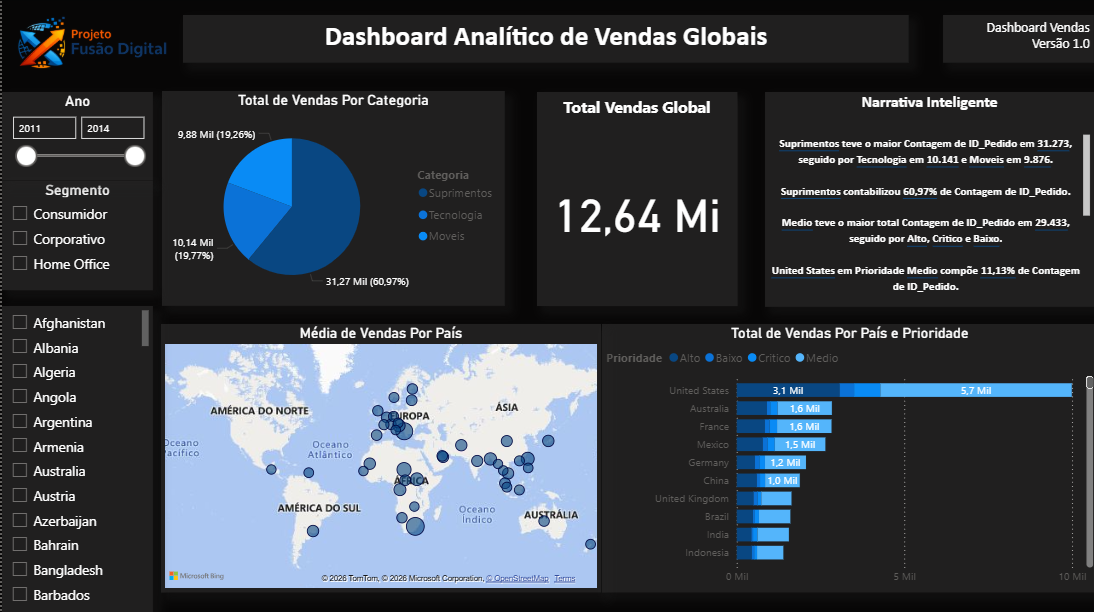

What the dashboard file says about the page in this screenshot:
{"tool":"powerbi","page":{"name":"Lab1","canvas":[1280,720],"ordinal":0},"visuals":[{"type":"card","fields":{"Values":["Sum(dataset.Total_Vendas)"]},"box":[627.4,109.1,234.5,250.9],"z":0},{"type":"pieChart","title":"Total de Vendas Por Categoria","fields":{"Category":["dataset.Categoria"],"Y":["CountNonNull(dataset.ID_Pedido)"]},"box":[187.5,107.7,401.7,252.3],"z":1000},{"type":"barChart","title":"Total de Vendas Por País e Prioridade","fields":{"Category":["dataset.Pais"],"Y":["CountNonNull(dataset.ID_Pedido)"],"Series":["dataset.Prioridade"]},"box":[703.8,380.8,581.1,314.9],"z":2000},{"type":"map","title":"Média de Vendas Por País","fields":{"Category":["dataset.Pais"],"Size":["Avg(dataset.Total_Vendas)"]},"box":[187,381.4,515.9,315.4],"z":3000},{"type":"slicer","fields":{"Values":["dataset.Pais"]},"box":[0,360,177.1,360],"z":4000},{"type":"slicer","title":"Segmento","fields":{"Values":["dataset.Segmento"]},"box":[0,213.4,177.1,127.8],"z":5000},{"type":"slicer","title":"Ano","fields":{"Values":["dataset.Data_Pedido.Variation.Hierarquia de datas.Ano"]},"box":[0,109.1,177.1,104.4],"z":6000},{"type":"textbox","box":[212.2,18.8,851.3,56.3],"z":7000},{"type":"textbox","box":[1103.5,18.8,177.1,56.3],"z":8000},{"type":"image","box":[0,0,212.2,109.1],"z":9000},{"type":"textbox","title":"Narrativa Inteligente","box":[894.7,109.1,385.8,252.1],"z":10000}]}

Visuals, with their boxes in screenshot pixels (x1, y1, x2, y2), scaled from the page's 1280x720 canvas onto the 1094x612 screenshot:
card - Sum(dataset.Total_Vendas): <region>536, 93, 737, 306</region>
"Total de Vendas Por Categoria" pieChart: <region>160, 92, 504, 306</region>
"Total de Vendas Por País e Prioridade" barChart: <region>602, 324, 1093, 591</region>
"Média de Vendas Por País" map: <region>160, 324, 601, 592</region>
slicer - dataset.Pais: <region>0, 306, 151, 611</region>
"Segmento" slicer: <region>0, 181, 151, 290</region>
"Ano" slicer: <region>0, 93, 151, 181</region>
textbox: <region>181, 16, 909, 64</region>
textbox: <region>943, 16, 1093, 64</region>
image: <region>0, 0, 181, 93</region>
"Narrativa Inteligente" textbox: <region>765, 93, 1093, 307</region>
